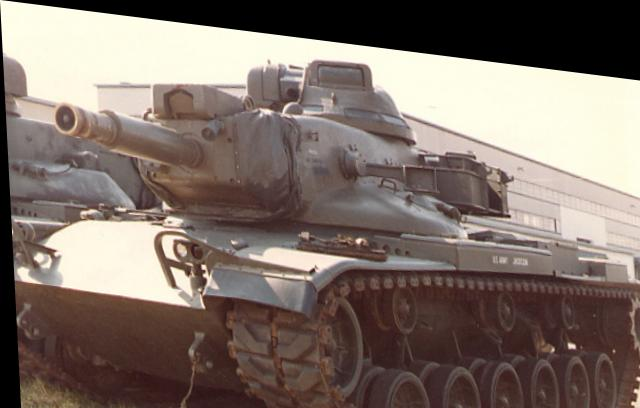tank: (21, 71, 640, 406)
